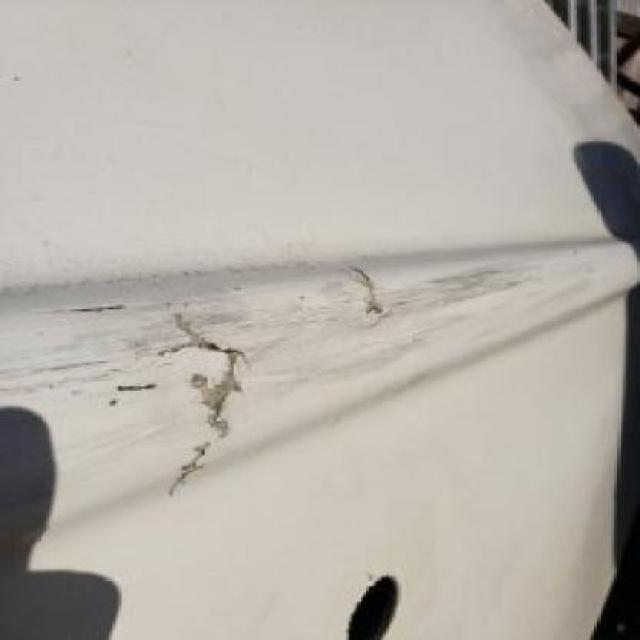crack: (154, 311, 251, 439), (161, 436, 215, 501), (66, 303, 119, 316), (109, 381, 158, 395)
